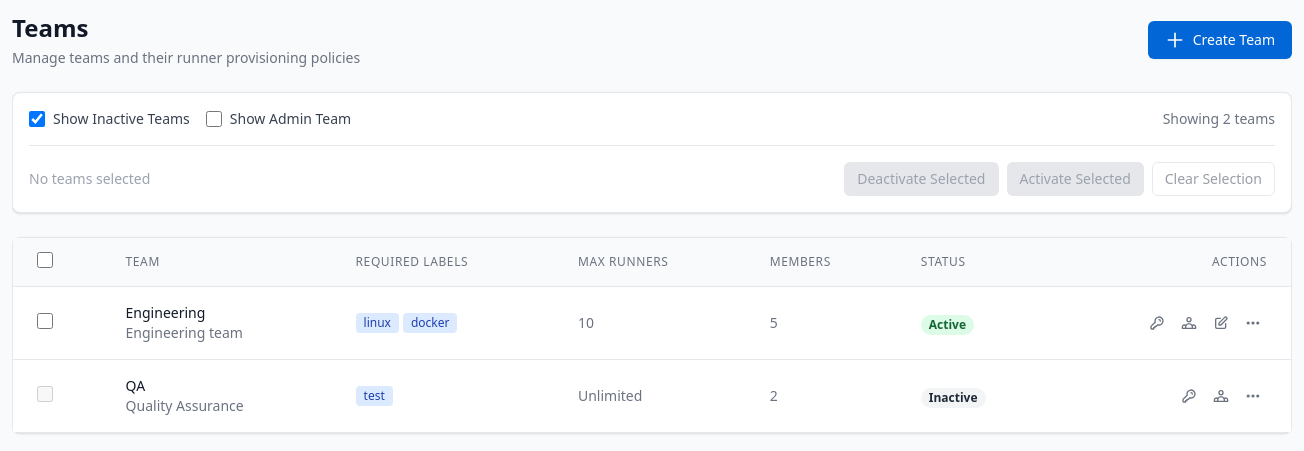
it: Teams › shows deactivate option in actions menu for active teams
Check: the text "Engineering" is shown, box [126, 303, 205, 322]
Note: Open the ⋮ menu for the first (active) team row
Click the button named "more actions" in the row of "Engineering team": (1253, 323) [1239, 309, 1267, 337]
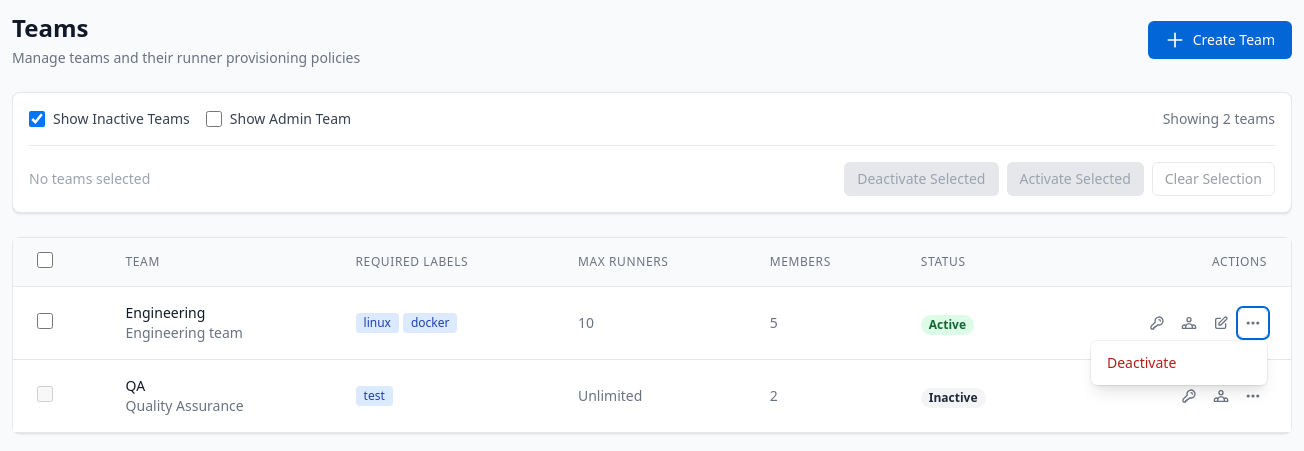
Check: the menu item "Deactivate" is shown, box [1091, 345, 1267, 381]
